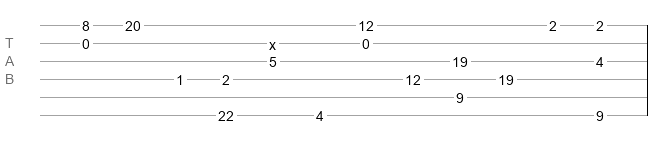0: (82, 36, 90, 46), (362, 36, 370, 46)
1: (176, 72, 184, 82)
12: (358, 18, 374, 28), (405, 72, 421, 82)
19: (452, 54, 468, 64), (498, 72, 514, 82)
2: (222, 72, 230, 82), (549, 18, 557, 28), (596, 18, 604, 28)
20: (125, 18, 141, 28)
22: (218, 108, 234, 118)
4: (316, 108, 324, 118), (596, 54, 604, 64)
5: (269, 54, 277, 64)
8: (82, 18, 90, 28)
9: (456, 90, 464, 100), (596, 108, 604, 118)
x: (269, 37, 276, 45)
